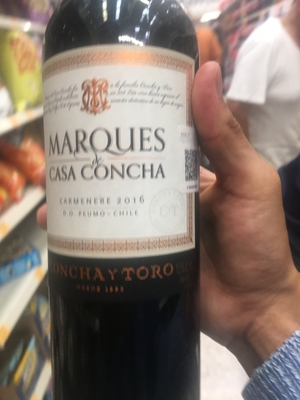marques de casa concha carmenere: (35, 14, 216, 396)
